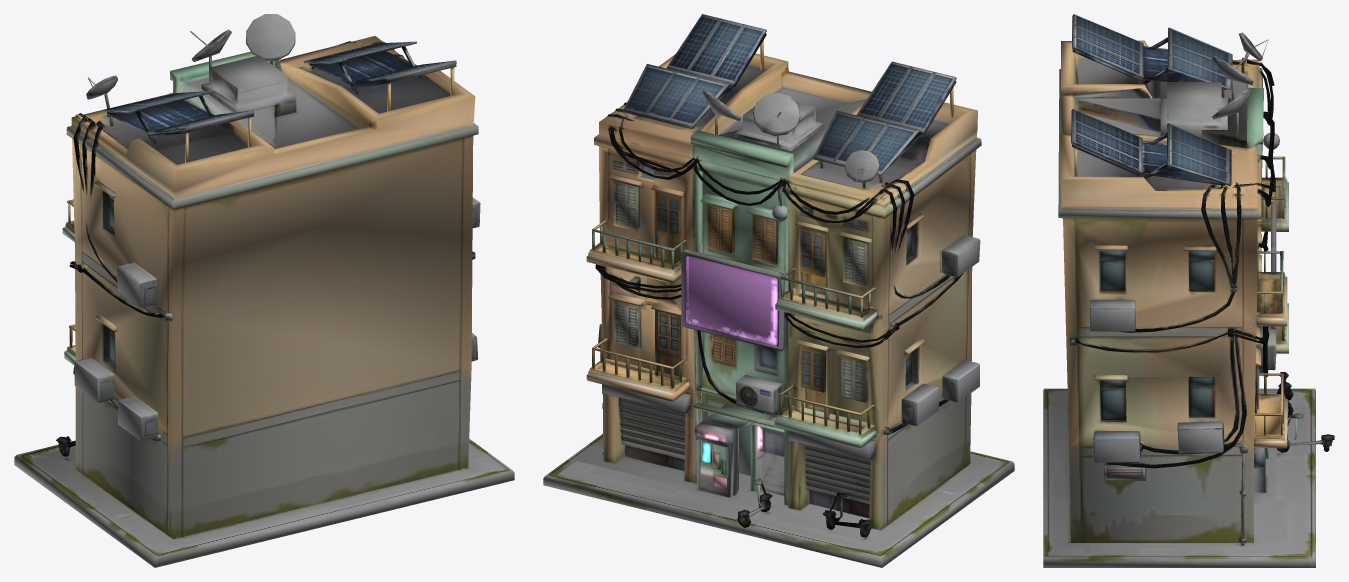
The model's file is vn_tube_house.glb.
The picture shows the model from 3 angles, left to right: view 1: azimuth 30°, elevation 25°; view 2: azimuth 150°, elevation 25°; view 3: azimuth 270°, elevation 25°; orthographic projection. The views are drawn at different scales.
Visible parts, largest first — view 1: Body; view 2: Body, Glow; view 3: Body.
Part boxes in pixels (x1,y1,x2,y2): Body: [14, 14, 514, 567]; Body: [543, 14, 1014, 567]; Glow: [686, 256, 778, 485]; Body: [1043, 14, 1334, 567].
Size of the model in its own units: 8 by 9.1 by 5.79.
2 materials, 2 textured.
